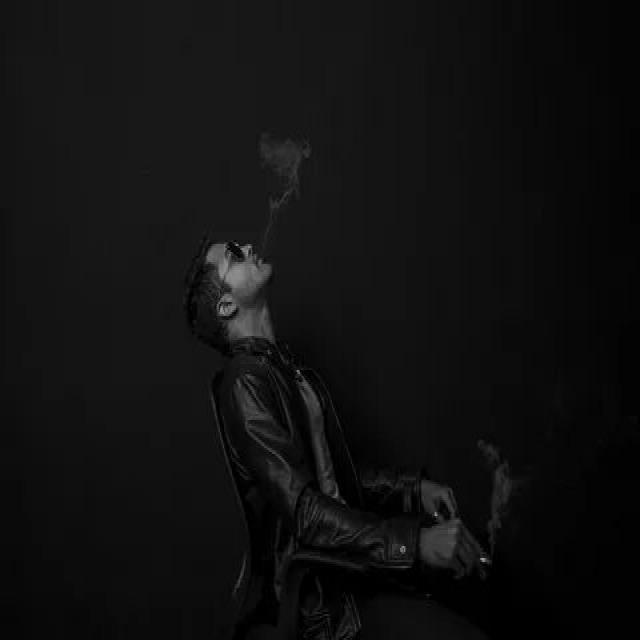cigarette: (476, 550, 495, 570)
